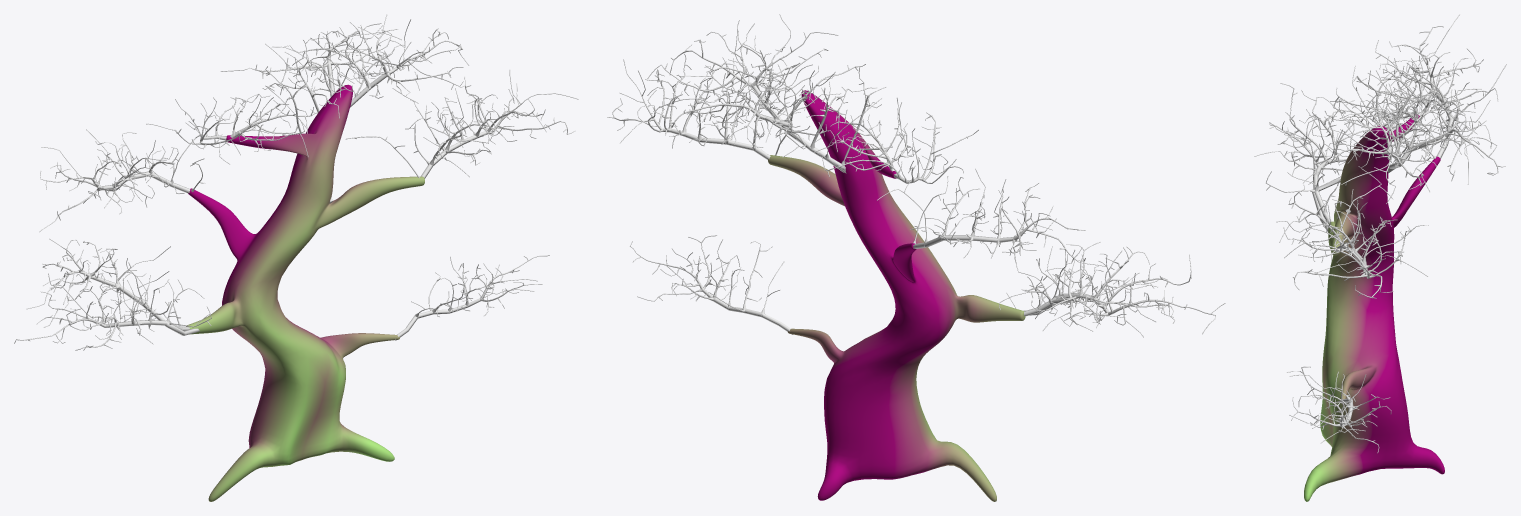
3 renders of one model, left to right at view 1: azimuth 30°, elevation 25°; view 2: azimuth 150°, elevation 25°; view 3: azimuth 270°, elevation 25°, orthographic. The views are drawn at different scales.
Visible parts, largest first — view 1: Continuous aged trunk and primary branches, Terminal twig hierarchy; view 2: Continuous aged trunk and primary branches, Terminal twig hierarchy; view 3: Continuous aged trunk and primary branches, Terminal twig hierarchy.
Boxes of the visible parts, x1,y1,x2,y2 form: Continuous aged trunk and primary branches: [186, 84, 424, 501]; Terminal twig hierarchy: [14, 14, 578, 350]; Continuous aged trunk and primary branches: [768, 90, 1025, 501]; Terminal twig hierarchy: [607, 14, 1225, 337]; Continuous aged trunk and primary branches: [1304, 114, 1444, 501]; Terminal twig hierarchy: [1254, 14, 1506, 453].
Bounding box in the file's own units: 2.71 × 1.92 × 1.01.
